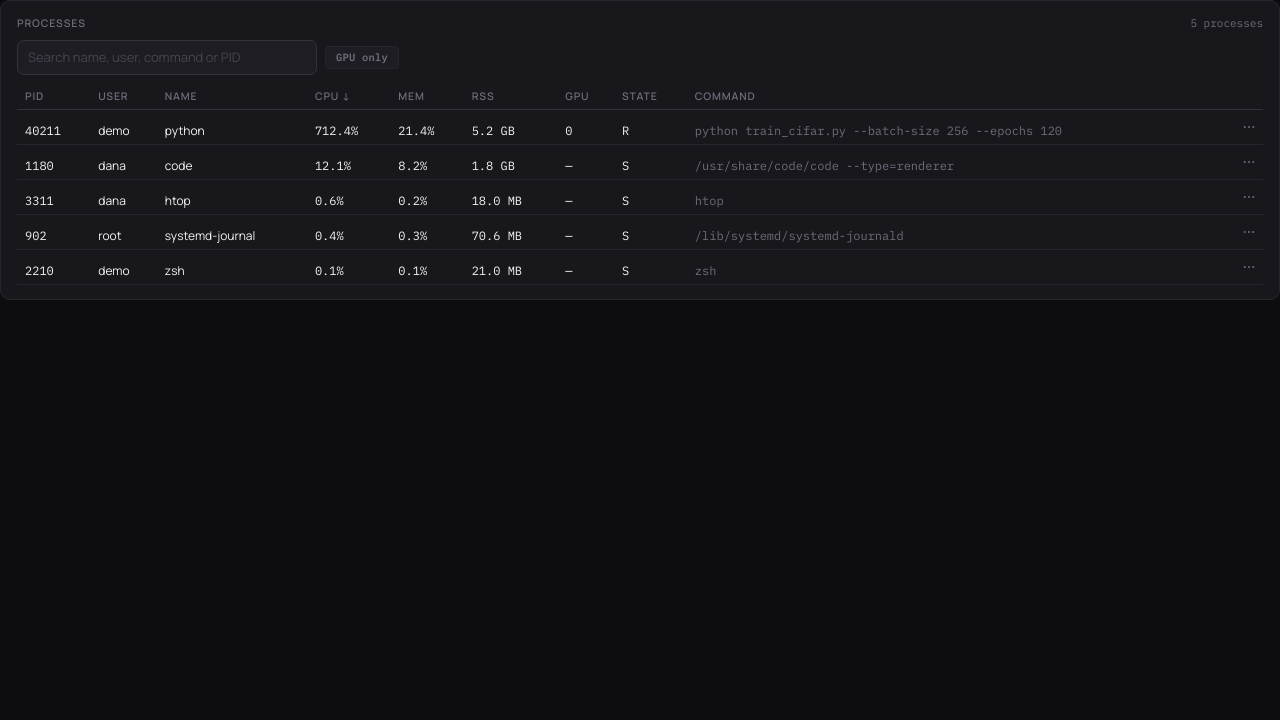
it: ServerPage — process actions › names action verb, server, PID and process name in the confirmation
Click the button named "Actions for process 40211".
click(1249, 127)  # box [1235, 113, 1263, 141]
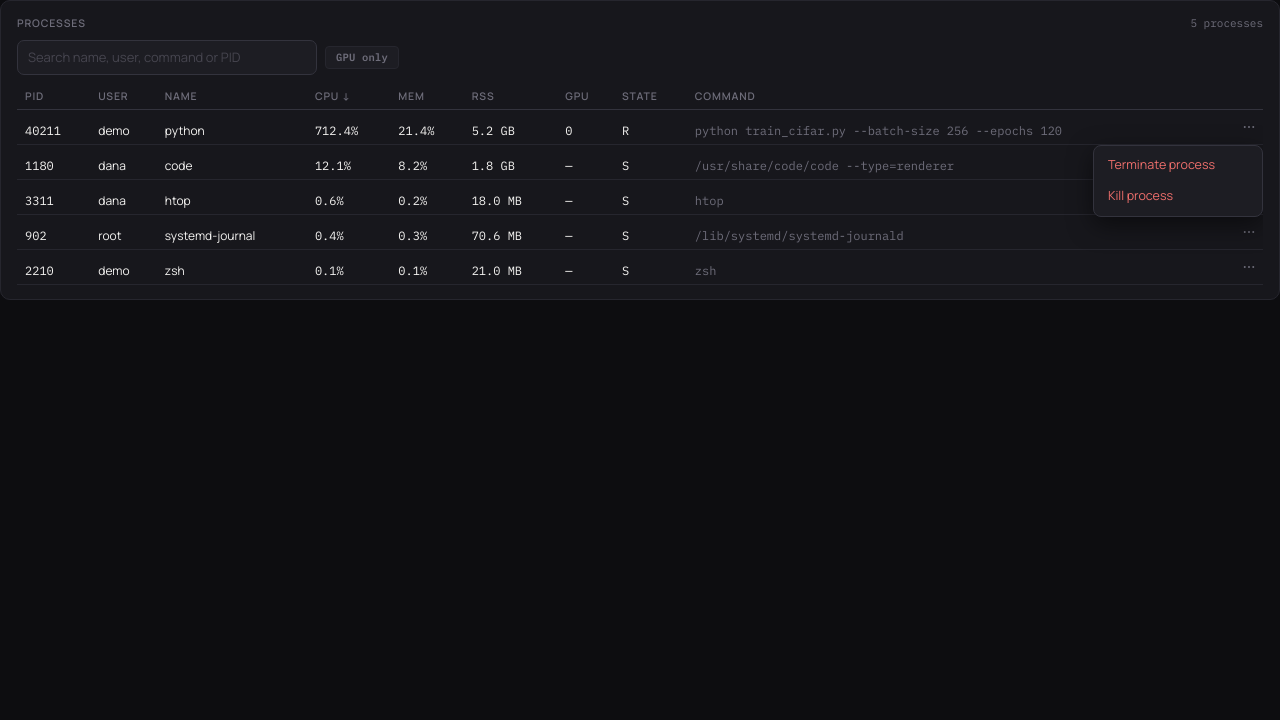
Click the menu item "Terminate process".
click(1178, 165)  # box [1098, 150, 1258, 181]
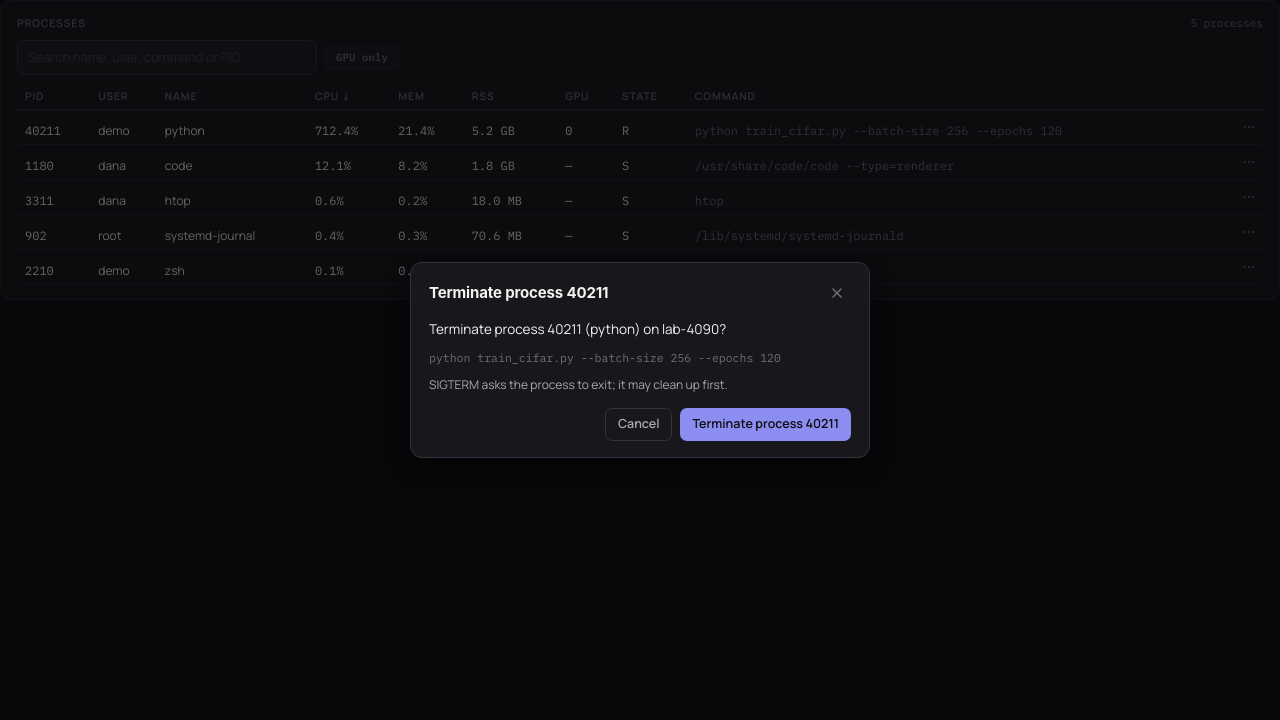
Check: the number of headings "Terminate process 40211" is 2, box [429, 282, 608, 304]; [680, 408, 851, 441]
Check: the text "Terminate process 40211 (python) on lab-4090?" is shown, box [429, 320, 726, 338]
Check: the text "python train_cifar.py --batch-size 256 --epochs 120" is shown, box [429, 350, 781, 365]
Click the button "Cancel".
click(639, 425)  # box [605, 408, 672, 441]
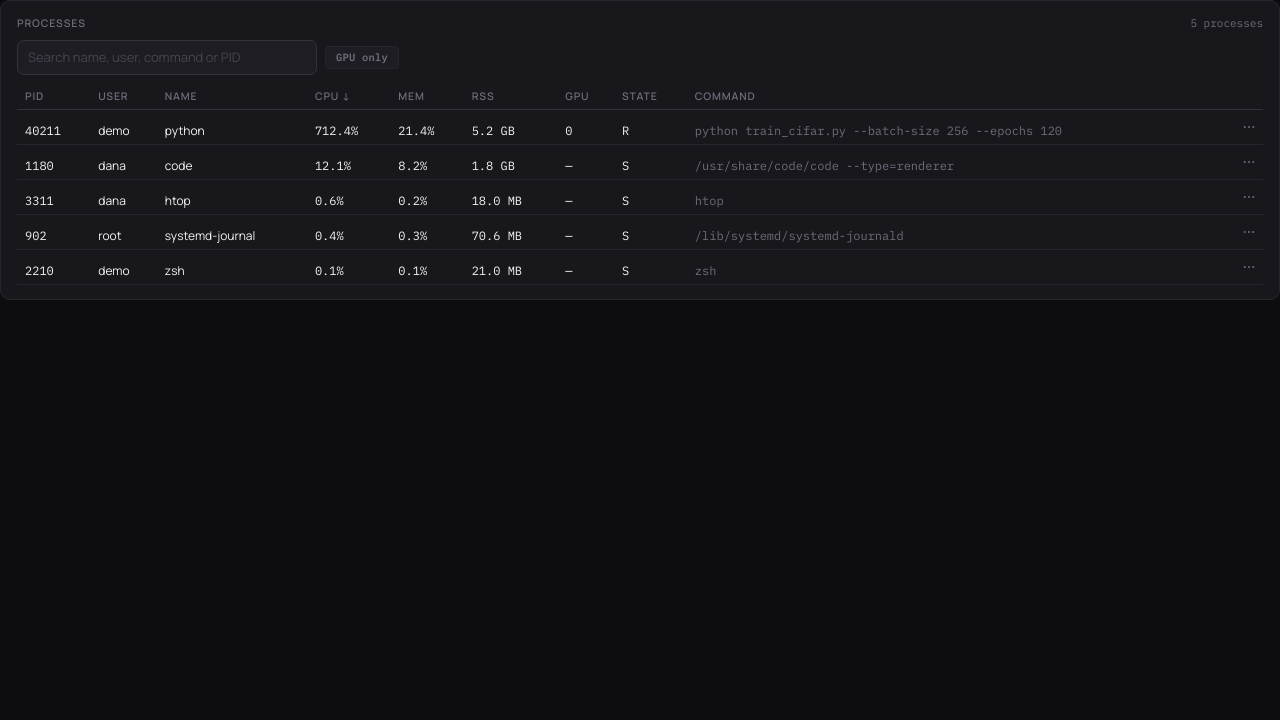
Click the button named "Actions for process 40211".
click(1249, 127)  # box [1235, 113, 1263, 141]
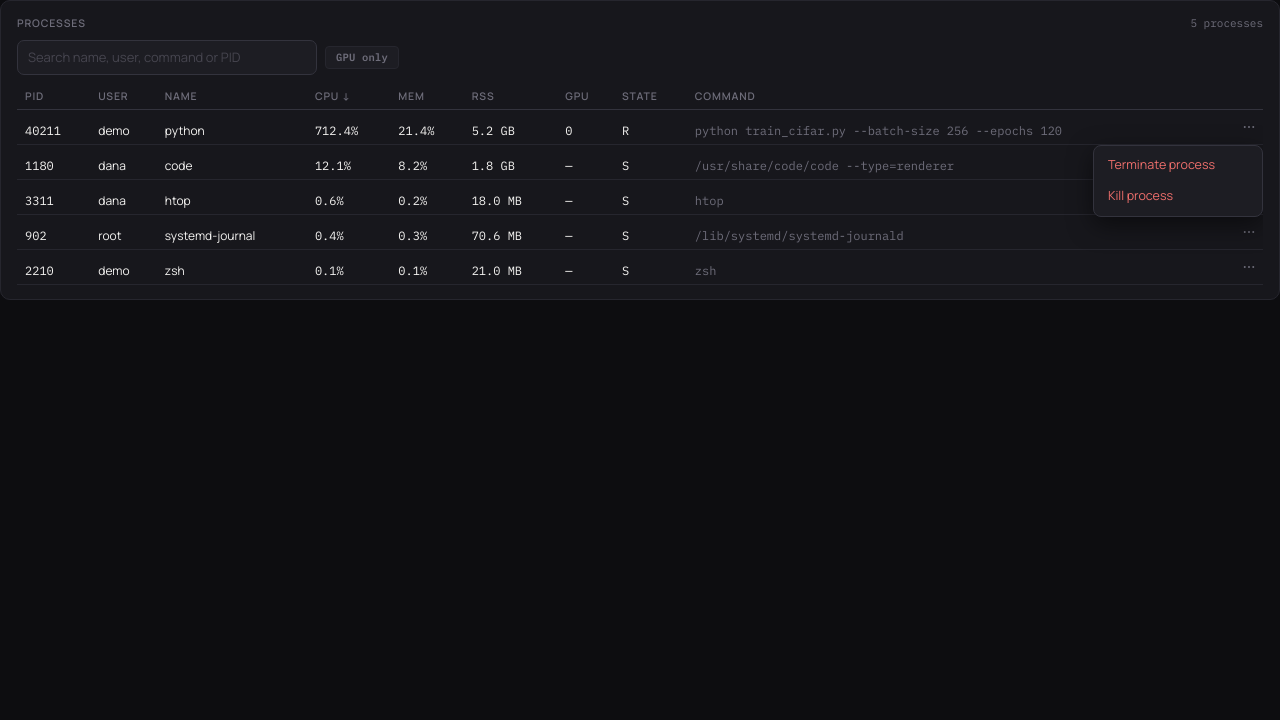
Click the menu item "Kill process".
click(1178, 196)  # box [1098, 181, 1258, 212]
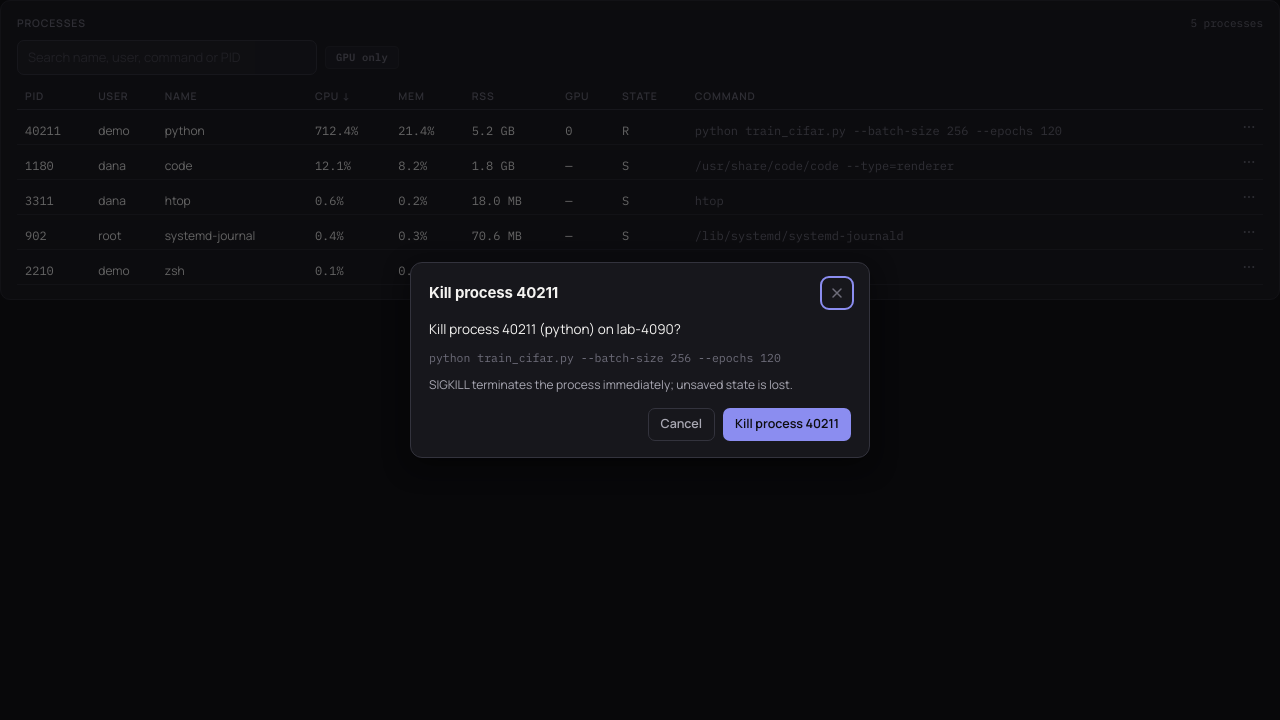
Check: the number of headings "Kill process 40211" is 2, box [429, 282, 558, 304]; [723, 408, 851, 441]
Check: the text "Kill process 40211 (python) on lab-4090?" is shown, box [429, 320, 681, 338]
